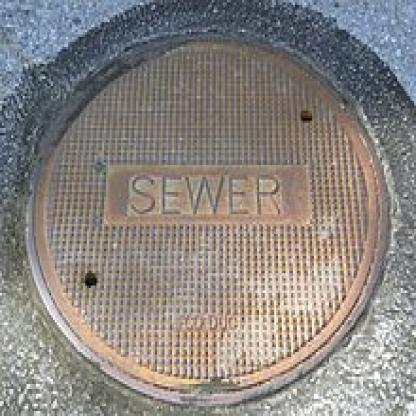closed manhole-not overflowing-: (30, 37, 384, 399)
